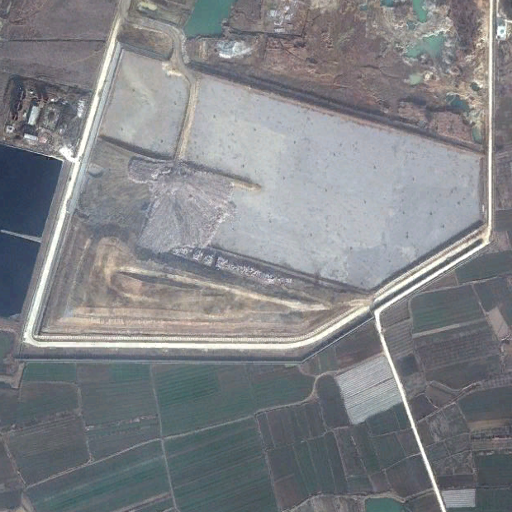lf: (24, 37, 491, 346)
